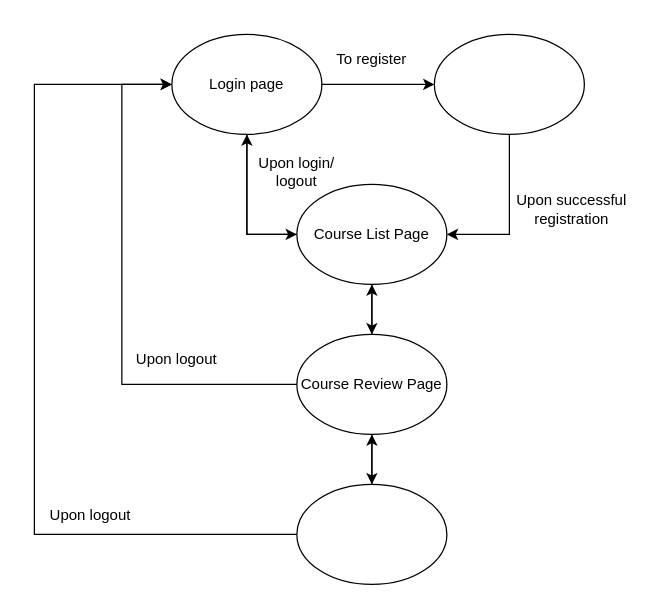
Some shapes in this 668 by 606 pixel diagram are drawn without their labels. The box of each missing label's shape, as (x1, y1, x2, y2) in pixels:
Registration Page: (433, 33, 584, 134)
Write a review page: (296, 483, 447, 584)
